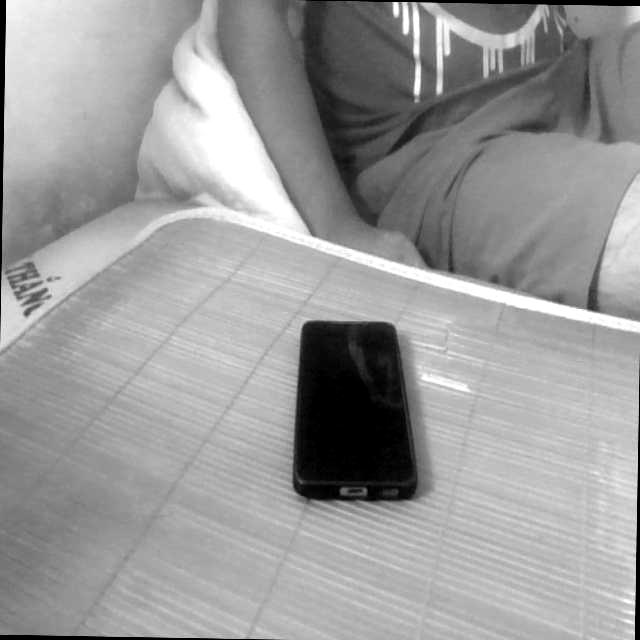phone: (276, 296, 438, 526)
